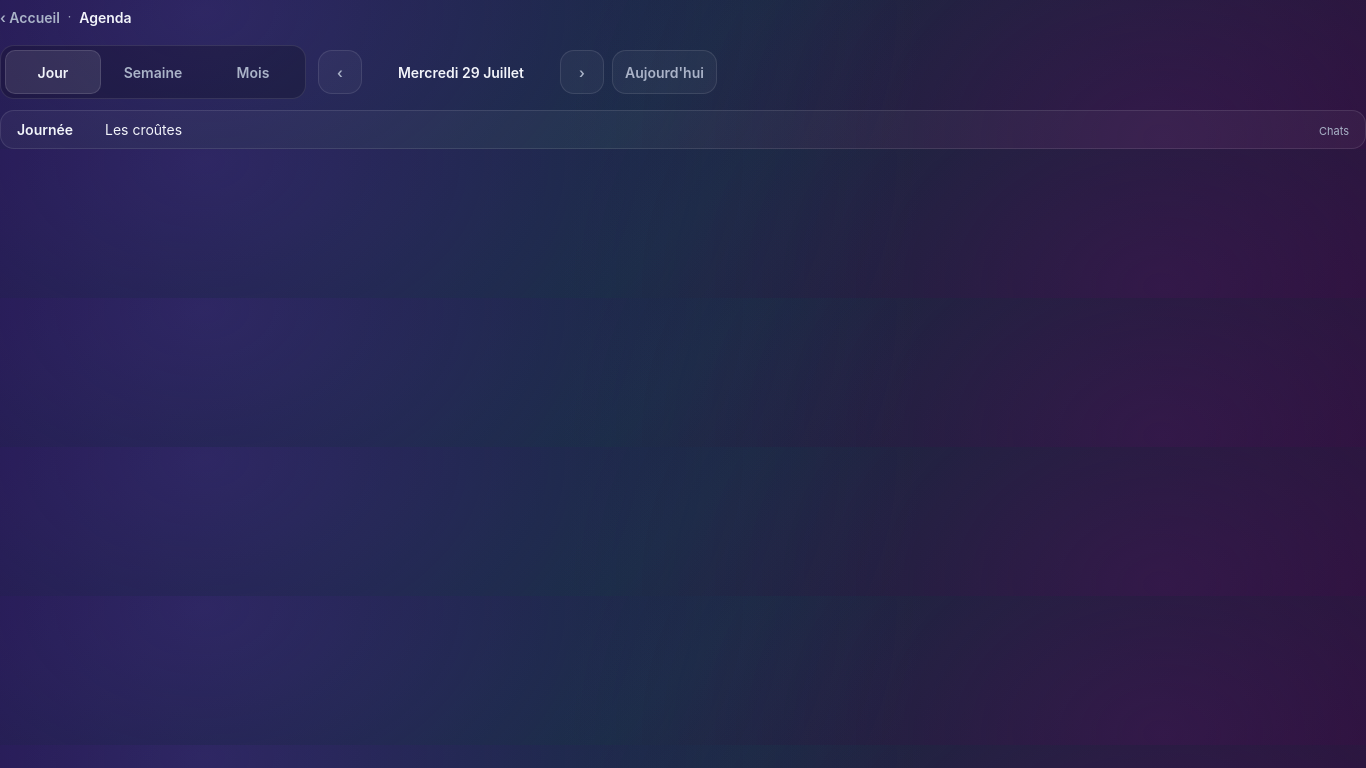
Test: AgendaDetail (Story 10.2) › ⚠️ un multi-jours apparaît sur CHAQUE jour couvert, de bout en bout
The image size is (1366, 768).
Click the tab "Semaine" at {"x": 153, "y": 72}, box [105,50,201,94]
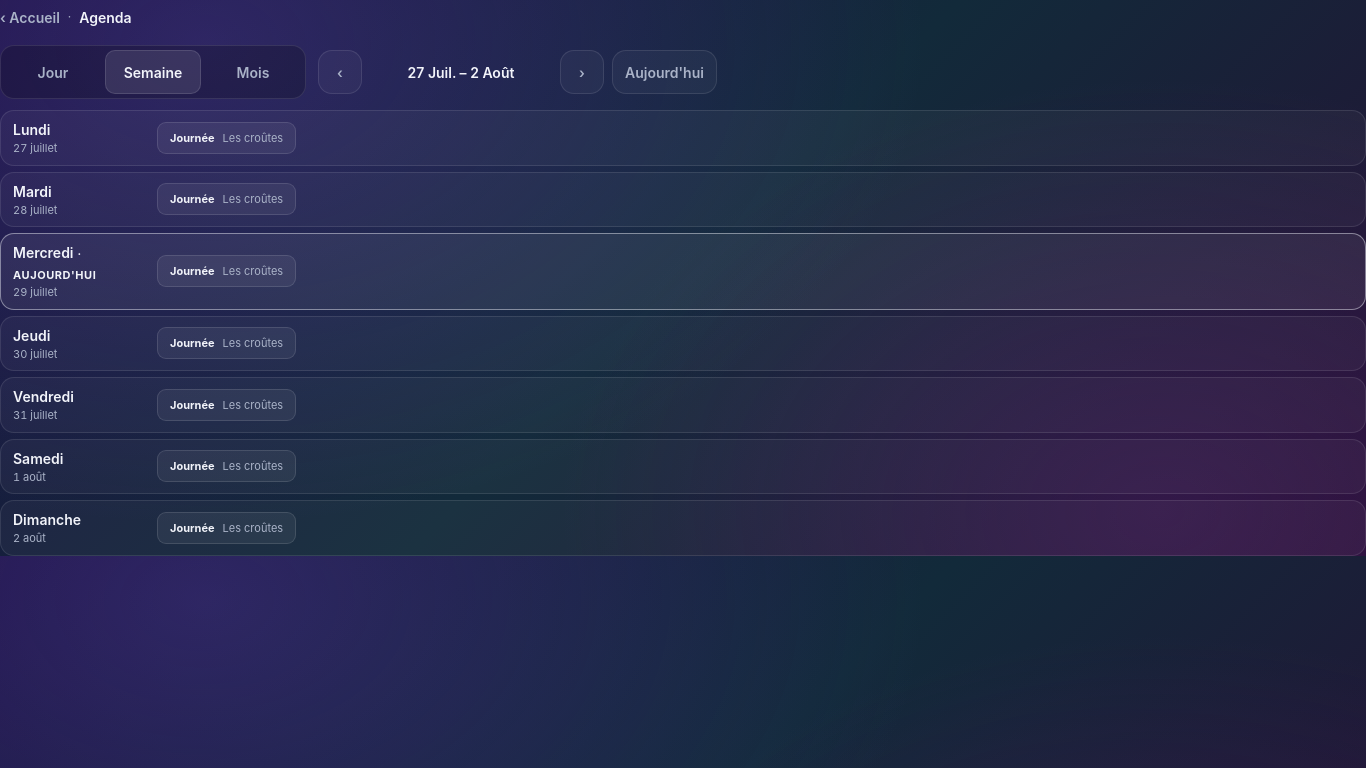
Result: the text "Les croûtes" is shown 7 times
